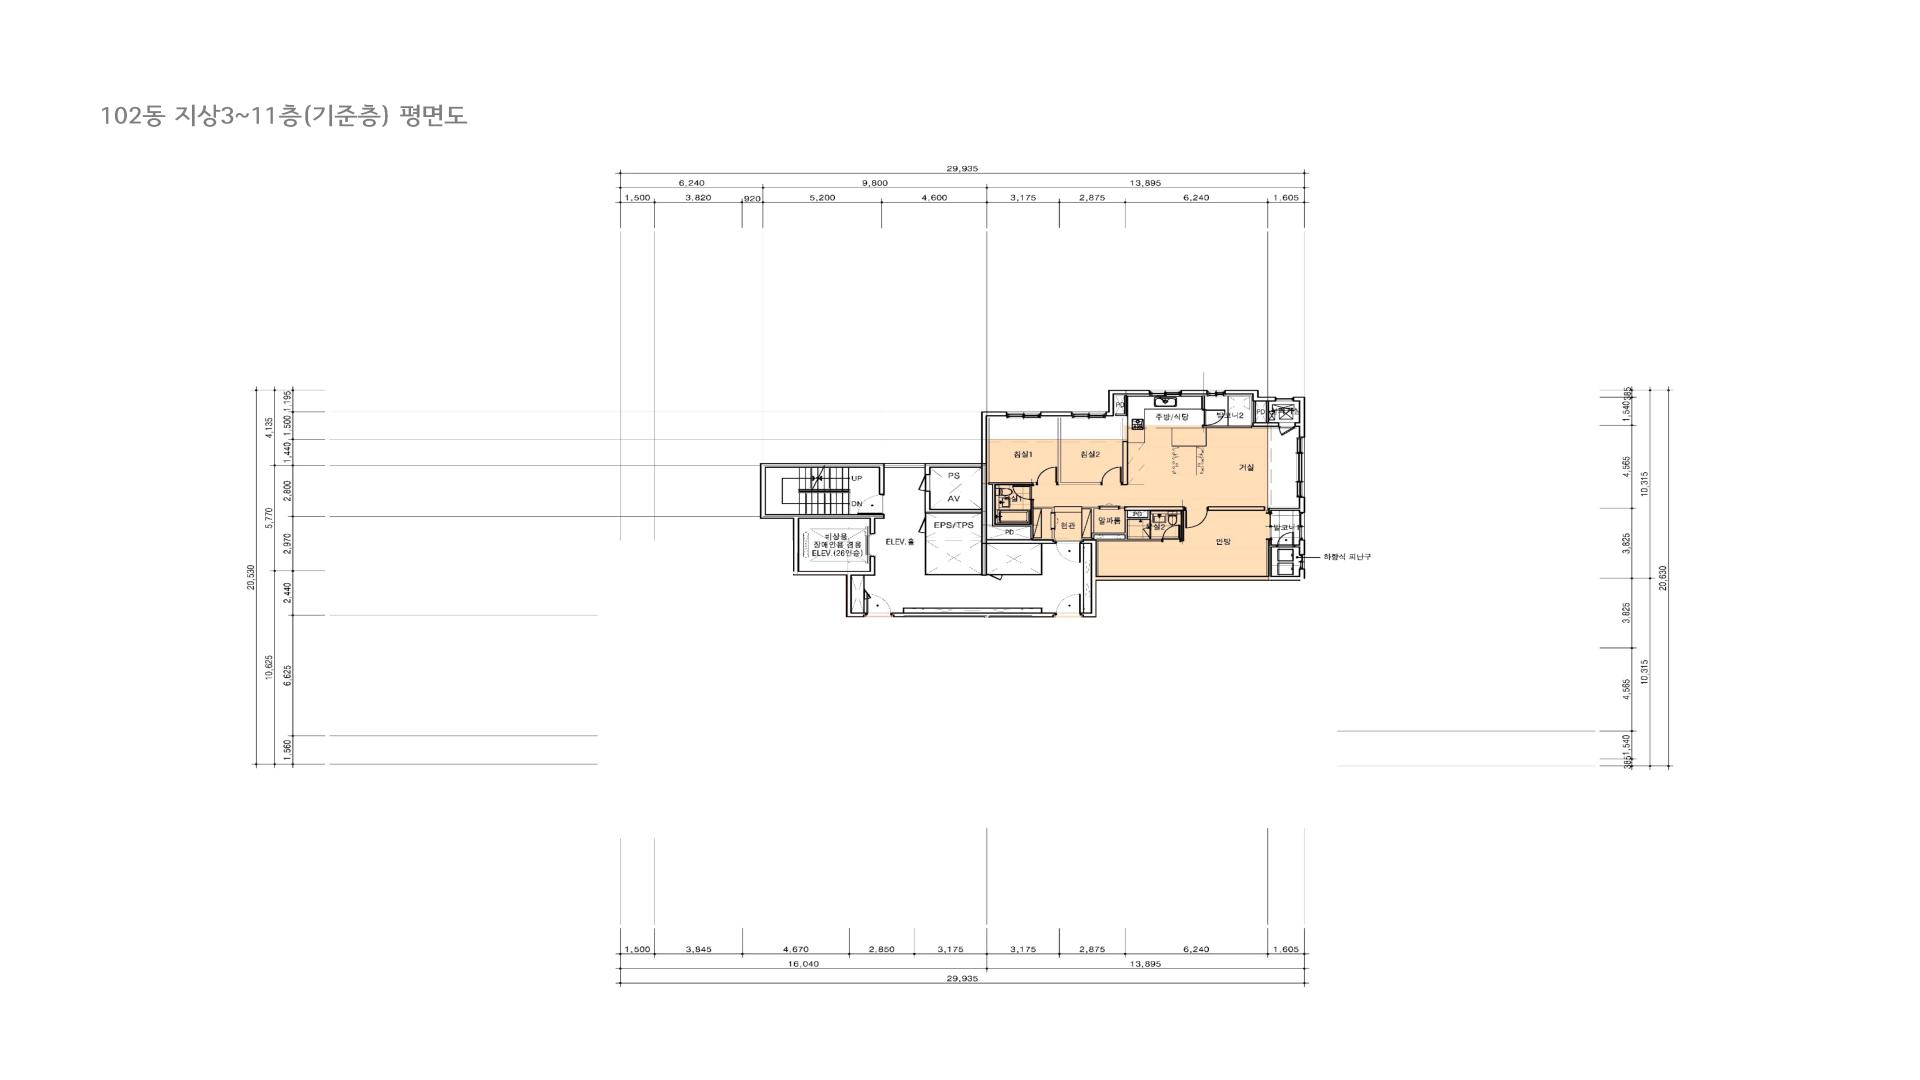door: (1055, 541, 1081, 563), (1056, 593, 1081, 615), (857, 495, 885, 514), (1184, 506, 1208, 528), (867, 594, 890, 615), (1100, 466, 1122, 485), (1036, 467, 1058, 485), (1202, 409, 1225, 425), (1012, 485, 1034, 500), (1162, 524, 1181, 541), (1277, 532, 1294, 547), (1278, 422, 1294, 436), (918, 475, 931, 491), (918, 517, 926, 533), (1143, 527, 1151, 539), (1099, 506, 1120, 510), (863, 589, 871, 599), (989, 574, 1002, 580), (1051, 512, 1055, 529)
wall: (924, 411, 1055, 575), (760, 463, 885, 617), (1081, 539, 1305, 618), (988, 482, 1054, 539), (1081, 506, 1184, 541), (1058, 416, 1100, 485), (925, 533, 981, 575), (1202, 402, 1278, 428), (1207, 497, 1305, 513), (1002, 544, 1042, 575), (1106, 390, 1149, 416), (1116, 395, 1128, 485), (903, 607, 1043, 613), (890, 612, 1056, 617), (1225, 390, 1275, 402), (1293, 397, 1305, 437), (1294, 540, 1305, 555), (1040, 411, 1072, 416), (1181, 390, 1207, 395), (1083, 544, 1084, 612), (1201, 394, 1205, 409), (863, 576, 865, 589), (863, 599, 865, 612), (925, 513, 926, 517), (987, 574, 989, 575)
window: (1296, 437, 1305, 497), (1006, 411, 1040, 418), (1072, 411, 1106, 418), (1149, 390, 1181, 397), (884, 463, 925, 468), (1266, 512, 1272, 540), (1299, 513, 1305, 540), (1207, 390, 1225, 396), (1299, 555, 1305, 569), (1275, 397, 1293, 401)
